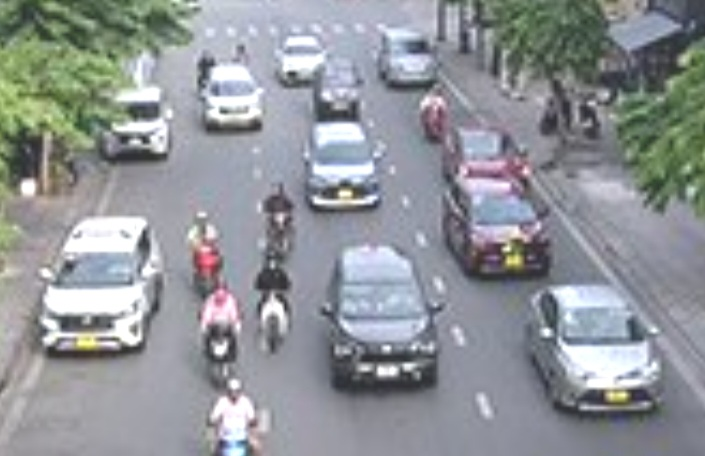car: (517, 282, 672, 423), (38, 215, 167, 358), (325, 242, 439, 388), (440, 180, 567, 276), (305, 120, 380, 213), (102, 81, 172, 162), (441, 124, 534, 183), (203, 65, 261, 133), (308, 58, 368, 118), (378, 34, 441, 89), (275, 35, 329, 87)
